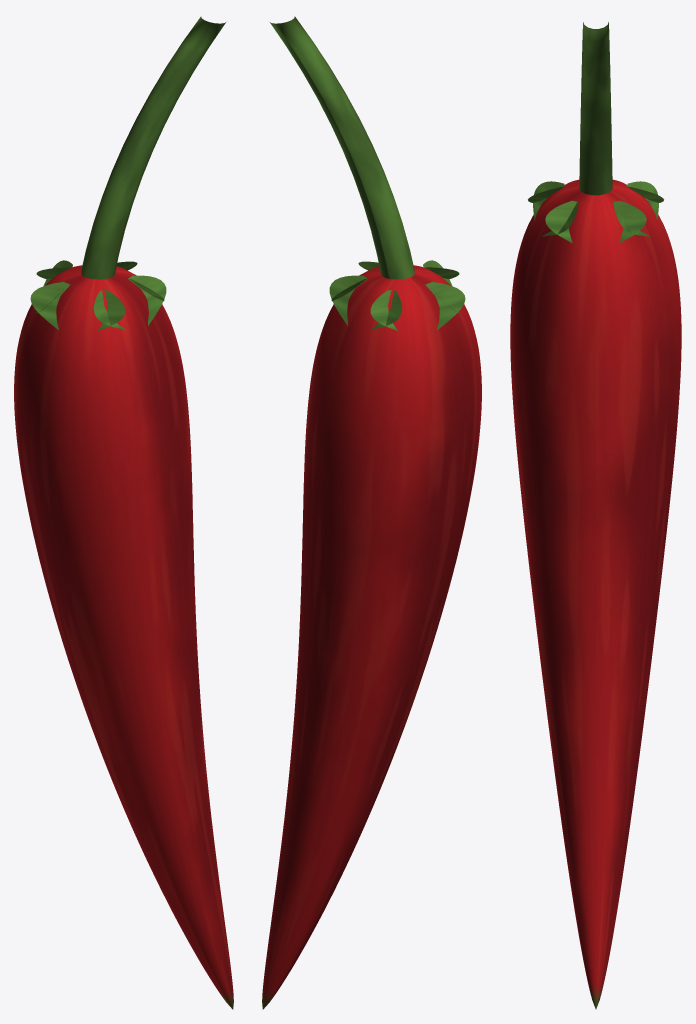
The model's file is piment.glb.
3 views of the same model, side by side, from view 1: azimuth 30°, elevation 25°; view 2: azimuth 150°, elevation 25°; view 3: azimuth 270°, elevation 25° (orthographic).
Visible parts, largest first — view 1: entier_peau, moitie_A_peau, entier_extra5, moitie_B_peau, entier_extra2, entier_extra1; view 2: entier_peau, moitie_B_peau, entier_extra5, moitie_A_peau, entier_extra3, entier_extra4; view 3: entier_peau, moitie_A_peau, moitie_B_peau, entier_extra5, entier_extra0, entier_extra1, entier_extra4.
Boxes of the visible parts, <box> form: entier_peau: <box>14,266,233,1009</box>; moitie_A_peau: <box>31,270,233,1007</box>; entier_extra5: <box>81,16,225,279</box>; moitie_B_peau: <box>14,265,221,995</box>; entier_extra2: <box>30,282,125,330</box>; entier_extra1: <box>93,275,166,329</box>; entier_peau: <box>262,266,481,1009</box>; moitie_B_peau: <box>262,270,464,1007</box>; entier_extra5: <box>270,16,414,279</box>; moitie_A_peau: <box>274,265,481,995</box>; entier_extra3: <box>370,282,465,330</box>; entier_extra4: <box>329,275,402,329</box>; entier_peau: <box>510,180,681,1009</box>; moitie_A_peau: <box>510,180,595,1006</box>; moitie_B_peau: <box>596,180,681,1006</box>; entier_extra5: <box>579,22,612,195</box>; entier_extra0: <box>545,200,646,243</box>; entier_extra1: <box>533,181,578,236</box>; entier_extra4: <box>613,181,658,236</box>.
Size of the model in its own units: 0.0179 by 0.0838 by 0.0132.
4 materials, 4 textured.
